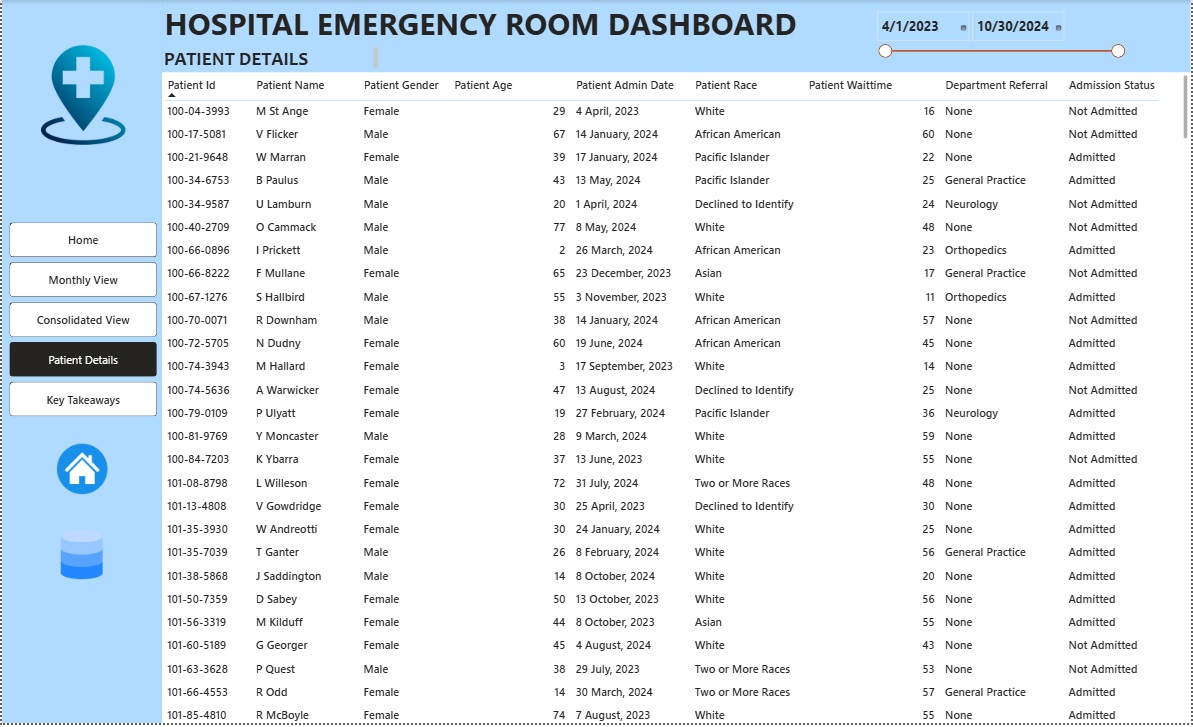

The dashboard page shown, as its layout file describes it:
{"tool":"powerbi","page":{"name":"Patient Details","canvas":[2300,1400],"ordinal":3},"visuals":[{"type":"shape","box":[0,0,310,1400],"z":0},{"type":"shape","box":[310,0,1990,140],"z":1000},{"type":"textbox","box":[310,0,1277.5,87.5],"z":2000},{"type":"textbox","box":[310,87.5,422.5,52.5],"z":3000},{"type":"slicer","fields":{"Values":["Date Table.Date"]},"box":[1680,12.5,500,115],"z":4000},{"type":"image","box":[56.7,83.3,203.3,203.3],"z":5000},{"type":"tableEx","fields":{"Values":["Hospital ER_Data.Patient Id","Hospital ER_Data.Patient Full Name","Hospital ER_Data.Patient Gender","Hospital ER_Data.Patient Age","Hospital ER_Data.patient admin date","Hospital ER_Data.Patient Race","Hospital ER_Data.Patient Waittime","Hospital ER_Data.Department Referral","Hospital ER_Data.Admission Status"]},"box":[310,140,1990,1260],"z":6000},{"type":"pageNavigator","box":[15,430,285,377.5],"z":7000},{"type":"image","box":[102.5,855,107.5,107.5],"z":8000},{"type":"image","box":[95,1020,120,105],"z":9000}]}

Visuals, with their boxes in screenshot pixels (x1, y1, x2, y2), scaled from the page's 2300x1400 canvas onto the 1193x727 screenshot:
shape: 0 0 161 726
shape: 161 0 1192 73
textbox: 161 0 823 45
textbox: 161 45 380 73
slicer - Date Table.Date: 871 6 1131 66
image: 29 43 135 149
tableEx - Hospital ER_Data.Patient Id x Hospital ER_Data.Patient Full Name: 161 73 1192 726
pageNavigator: 8 223 156 419
image: 53 444 109 500
image: 49 530 112 584
